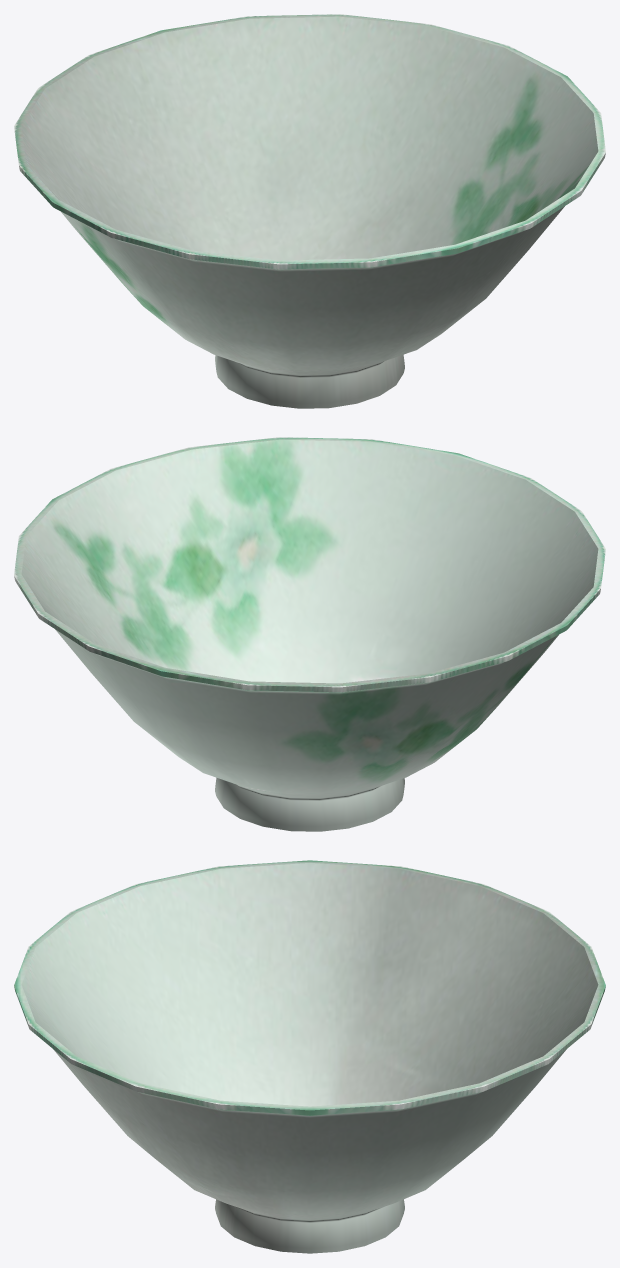
File: ricebowl_B_c02.fbx
The picture shows the model from 3 angles, top to bottom: view 1: azimuth 30°, elevation 25°; view 2: azimuth 150°, elevation 25°; view 3: azimuth 270°, elevation 25°; orthographic projection.
Visible parts, largest first — view 1: ricebowl_B_c02; view 2: ricebowl_B_c02; view 3: ricebowl_B_c02.
Part boxes in pixels (x1,y1,x2,y2): ricebowl_B_c02: (14,14,605,408); ricebowl_B_c02: (14,437,605,831); ricebowl_B_c02: (14,860,605,1253).
Bounding box in the file's own units: 11.39 × 4.87 × 11.39.
1 material, 1 textured.
